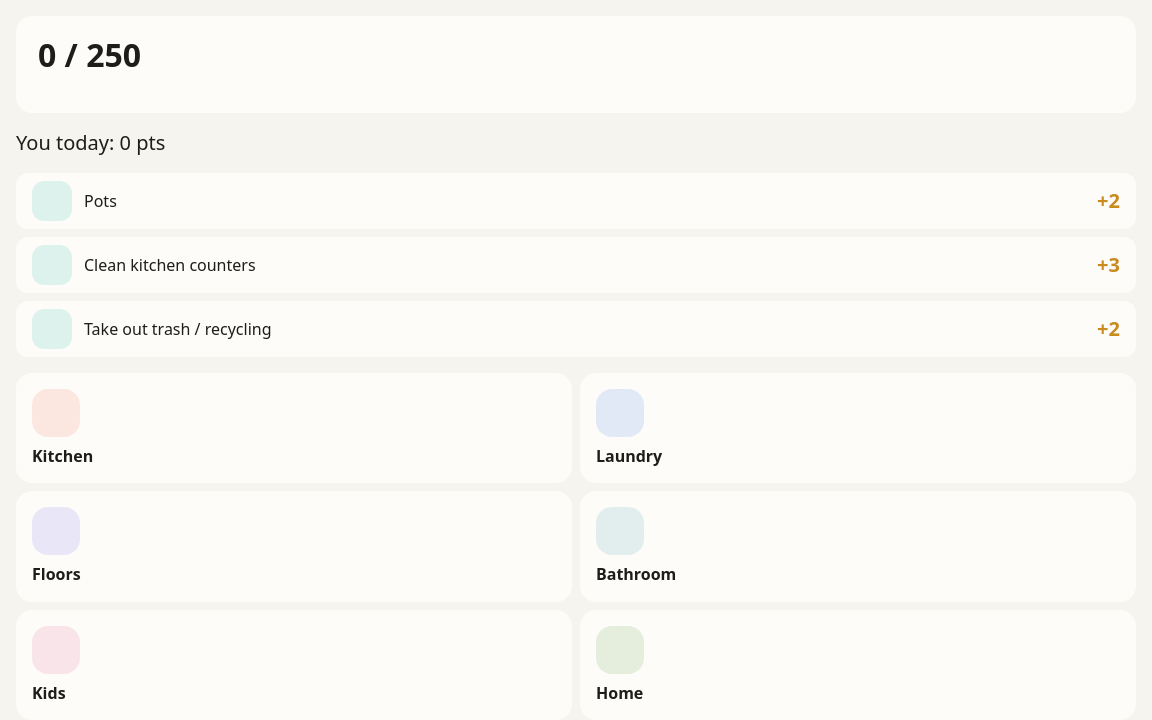
Test: LogScreen › a second completion replaces the toast instead of queueing it
Click the button with test id "task-button" showing "Pots +2" at (52,201), box [16,173,1136,229]
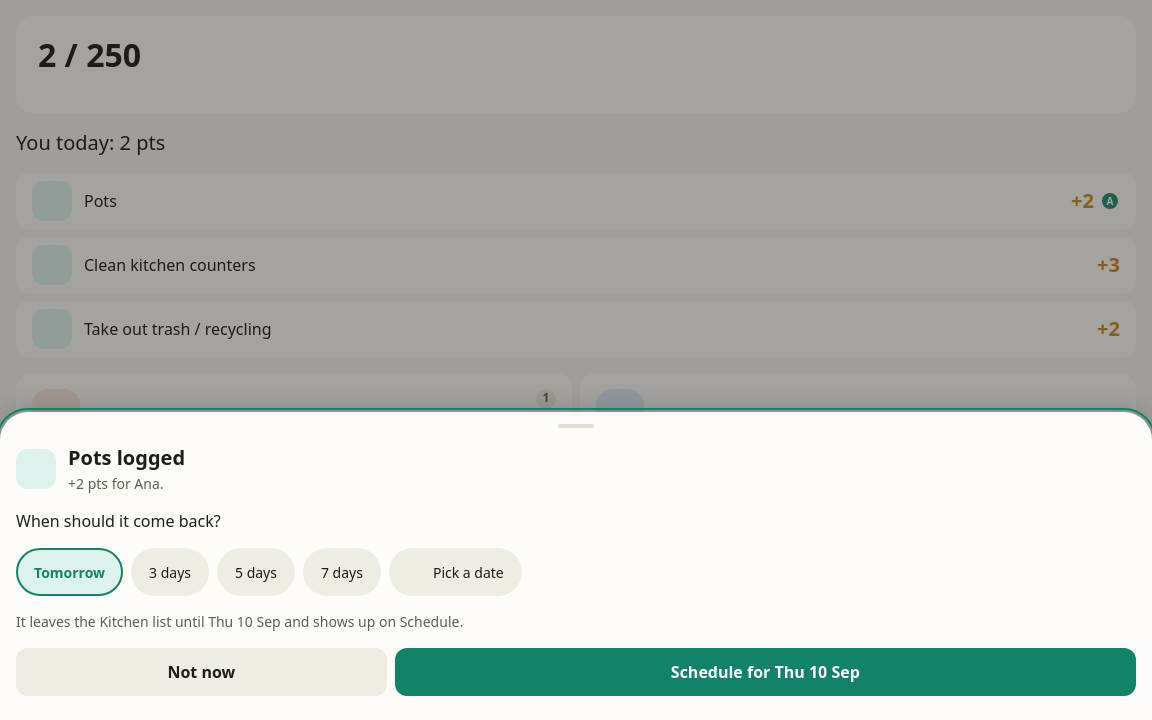
Click the button with test id "next-time-not-now" at (201,672), box [16,648,387,696]
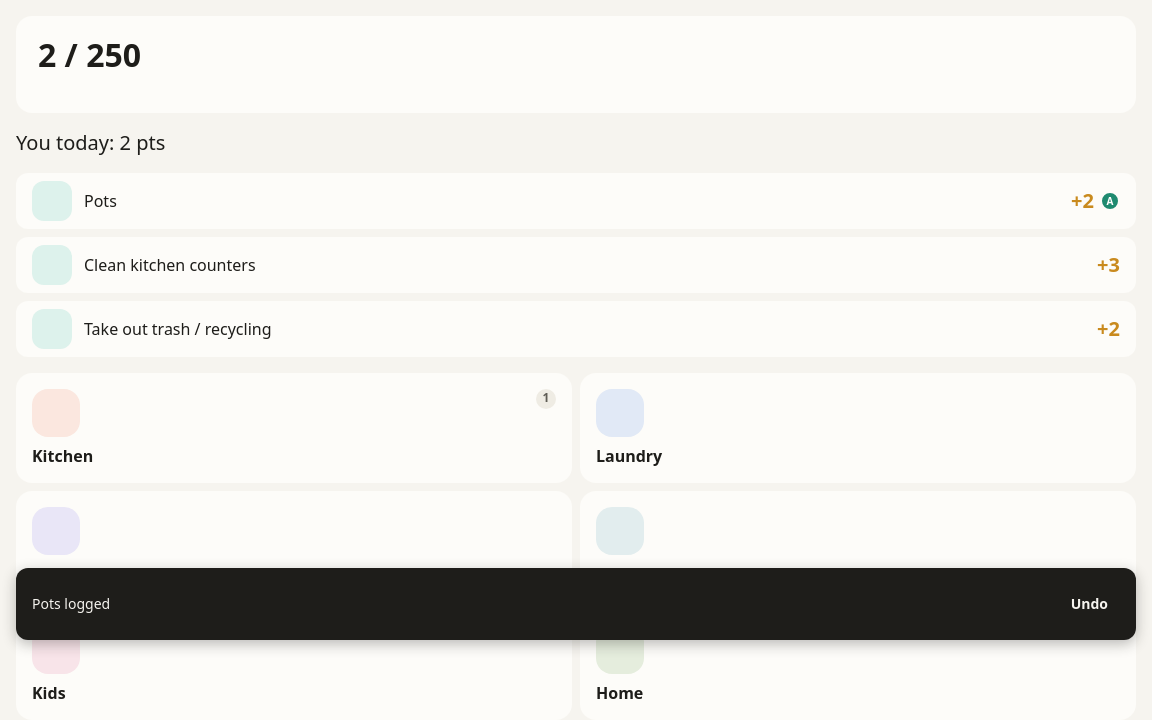
Click the button with test id "task-button" showing "Clean kitchen counters +3" at (52,265), box [16,237,1136,293]
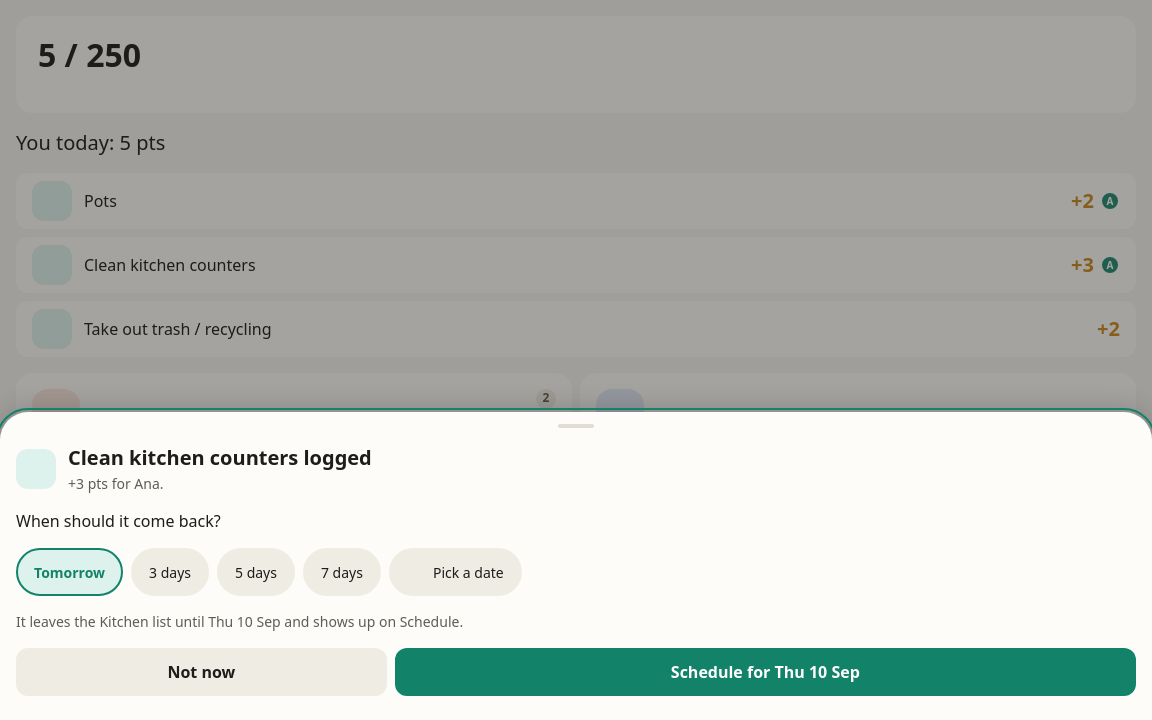
Click the button with test id "next-time-not-now" at (201,672), box [16,648,387,696]
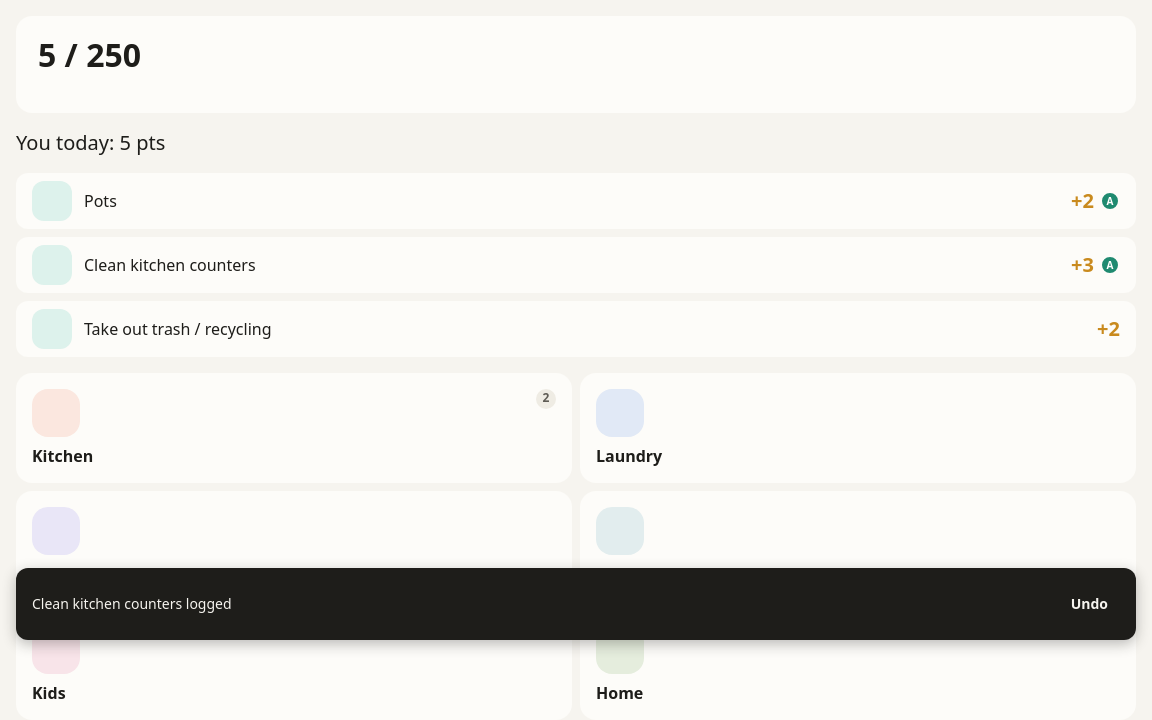
Expected: the number of messages is 1, [16,568,1136,640]
Expected: the message "Clean kitchen counters logged Undo" is shown, [16,568,1136,640]
